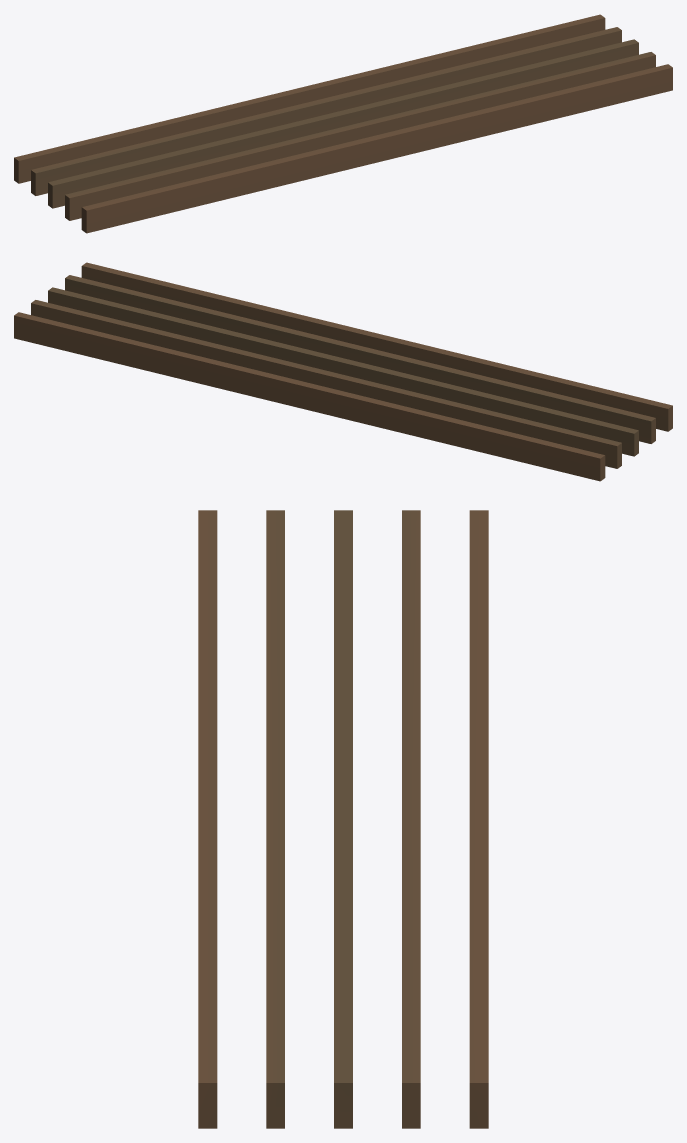
3 views of the same model, one above another, from view 1: azimuth 30°, elevation 25°; view 2: azimuth 150°, elevation 25°; view 3: azimuth 270°, elevation 25° (orthographic). The views are drawn at different scales.
Visible parts, largest first — view 1: back_slat.001, back_slat.005, back_slat.002, back_slat.003, back_slat.004; view 2: back_slat.005, back_slat.001, back_slat.002, back_slat.003, back_slat.004; view 3: back_slat.001, back_slat.005, back_slat.002, back_slat.003, back_slat.004.
Boxes of the visible parts, <box> form: back_slat.001: <box>81,64,672,233</box>; back_slat.005: <box>14,14,605,183</box>; back_slat.002: <box>65,52,655,220</box>; back_slat.003: <box>48,39,638,208</box>; back_slat.004: <box>31,27,621,195</box>; back_slat.005: <box>14,312,605,481</box>; back_slat.001: <box>81,262,672,431</box>; back_slat.002: <box>65,275,655,443</box>; back_slat.003: <box>48,287,638,456</box>; back_slat.004: <box>31,300,621,468</box>; back_slat.001: <box>198,510,217,1128</box>; back_slat.005: <box>469,510,488,1128</box>; back_slat.002: <box>266,510,284,1128</box>; back_slat.003: <box>334,510,352,1128</box>; back_slat.004: <box>402,510,420,1128</box>.
Bounding box in the file's own units: 1797 × 66.96 × 385.
